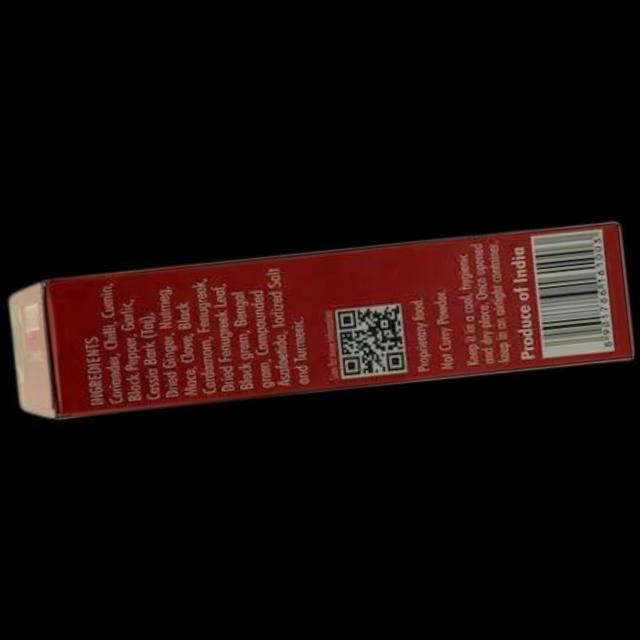Everest Chicken Masala 100 g: (3, 209, 636, 425)
